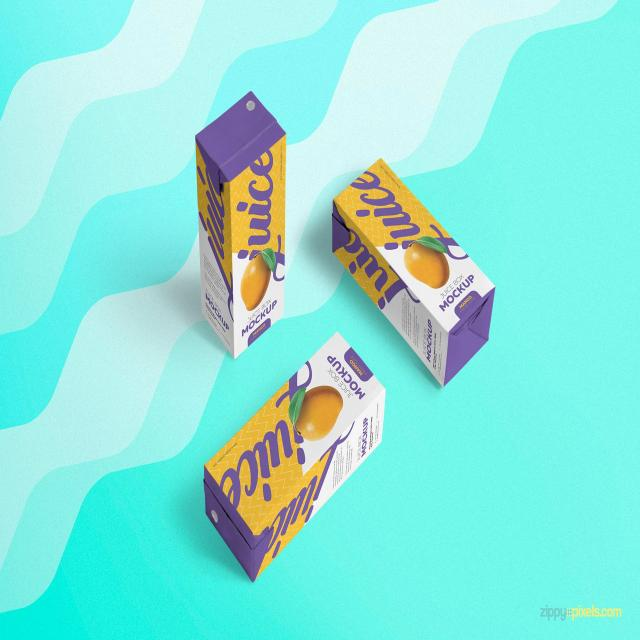non_white_jug: (202, 331, 392, 597), (322, 133, 501, 388), (184, 68, 296, 364)
